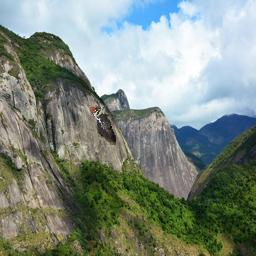Woodpecker: (90, 105, 116, 145)
